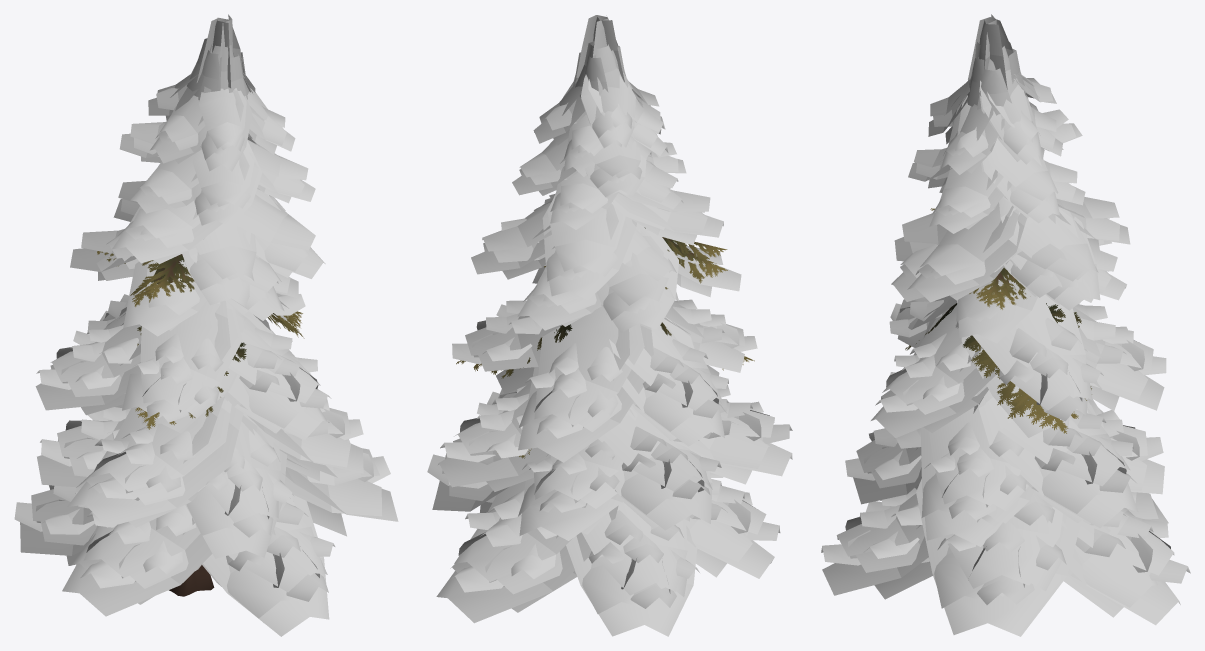
File: Fir_L_Normal.fbx
The picture shows the model from 3 angles, left to right: view 1: azimuth 30°, elevation 25°; view 2: azimuth 150°, elevation 25°; view 3: azimuth 270°, elevation 25°; orthographic projection. The views are drawn at different scales.
Visible parts, largest first — view 1: polySurface2247; view 2: polySurface2247; view 3: polySurface2247.
Part boxes in pixels (left/top/right/bottom): polySurface2247: left=14, top=14, right=398, bottom=636; polySurface2247: left=427, top=15, right=792, bottom=636; polySurface2247: left=821, top=14, right=1190, bottom=636.
Bounding box in the file's own units: 566 × 922 × 530.
